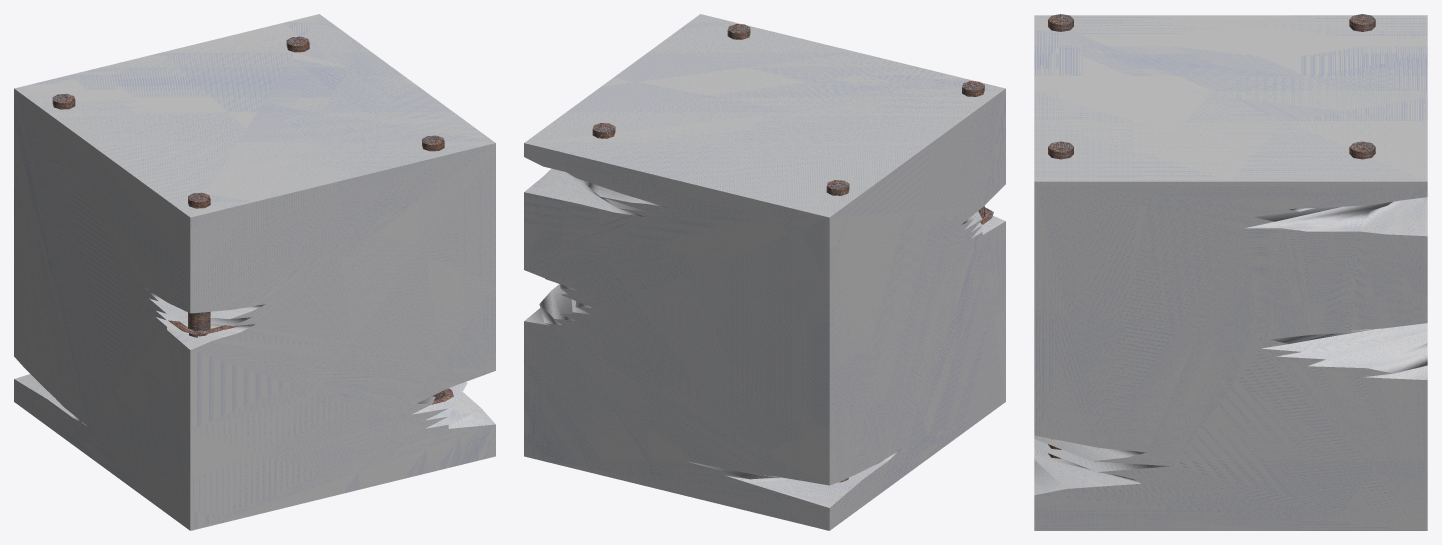
3 renders of one model, left to right at view 1: azimuth 30°, elevation 25°; view 2: azimuth 150°, elevation 25°; view 3: azimuth 270°, elevation 25°, orthographic. The views are drawn at different scales.
Parts seen in each view (by area): view 1: C-600sqr (×4), Rebar01; view 2: C-600sqr (×5); view 3: C-600sqr (×5), Rebar01.
Boxes of the visible parts, x1,y1,x2,y2 form: C-600sqr (×4): [14, 14, 495, 530]; Rebar01: [188, 192, 210, 337]; C-600sqr (×5): [524, 14, 1005, 530]; C-600sqr (×5): [1034, 15, 1427, 530]; Rebar01: [1048, 141, 1073, 458].
Size of the model in its own units: 40.16 by 40.16 by 40.16.
